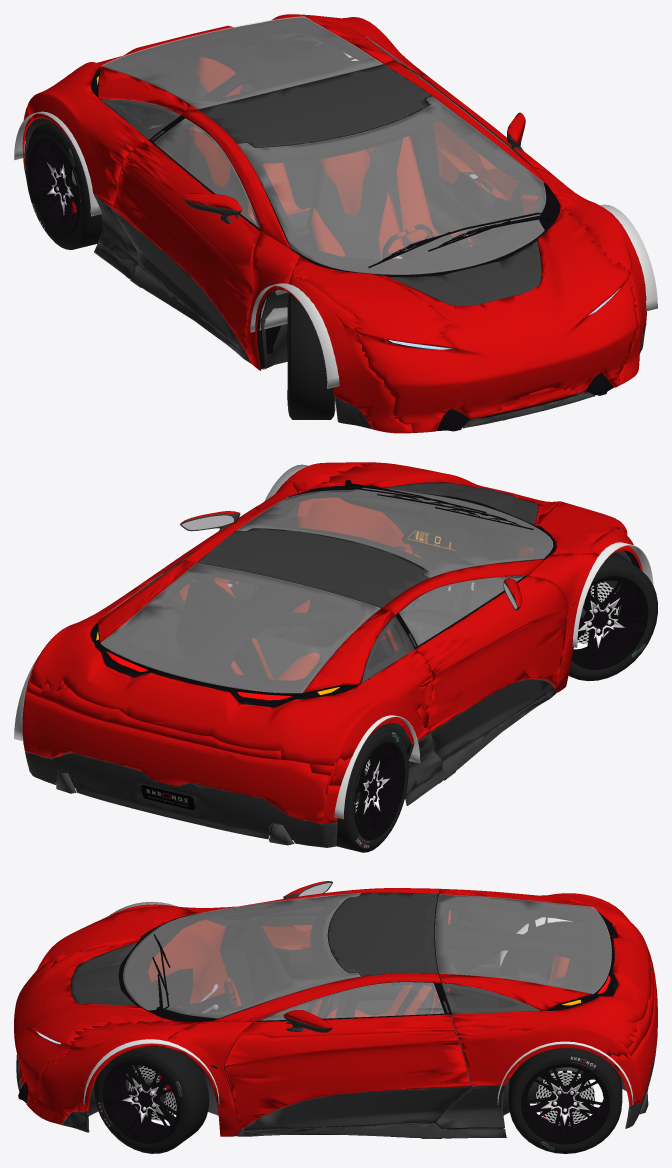
Rendered from car.glb.
The picture shows the model from 3 angles, top to bottom: view 1: azimuth 30°, elevation 25°; view 2: azimuth 150°, elevation 25°; view 3: azimuth 270°, elevation 25°; orthographic projection. The views are drawn at different scales.
Parts seen in each view (by area): view 1: BodyHood, BodyWindshield, BodyRearwindow, BodyDoorRColor1, BodyRearPanelsColor1, BodyRoofPanel, BodyWindshieldGasket, InteriorSeatsColor1, InteriorSeatsColor2, BodyPillars, InteriorPillar, InteriorRearHatch (+25 smaller); view 2: BodyRearPanelsColor1, BodyRearwindow, BodyRearBumper_BodyRearPanelsColor1, BodyWindshield, BodyDoorRColor1, BodyRoofPanel, BodyRearBumper_BodyPanelsColor2, BodyHood, InteriorRearHatch, InteriorPillar, BodyPillars, InteriorDashMid (+26 smaller); view 3: BodyWindshield, BodyDoorLColor1, BodyHood, BodyRearPanelsColor1, BodyRearwindow, BodyRoofPanel, BodyPillars, BodyWindshieldGasket, BodyDoorLColor2, BodyPanelsColor2, concept-wheel-3, InteriorRearHatch (+29 smaller).
Part boxes in pixels (x1,y1,x2,y2): BodyHood: (286,194,646,433); BodyWindshield: (238,96,545,274); BodyRearwindow: (101,16,382,109); BodyDoorRColor1: (111,140,260,355); BodyRearPanelsColor1: (26,14,429,206); BodyRoofPanel: (198,64,431,147); BodyWindshieldGasket: (238,97,560,276); InteriorSeatsColor1: (189,57,473,259); InteriorSeatsColor2: (185,77,470,259); BodyPillars: (181,60,594,370); InteriorPillar: (163,37,433,164); InteriorRearHatch: (100,17,383,116); BodyRearPanelsColor1: (26,560,432,765); BodyRearwindow: (101,563,380,692); BodyRearBumper_BodyRearPanelsColor1: (22,685,351,823); BodyWindshield: (236,488,552,577); BodyDoorRColor1: (415,575,567,732); BodyRoofPanel: (197,528,428,608); BodyRearBumper_BodyPanelsColor2: (24,749,337,847); BodyHood: (287,462,642,570); InteriorRearHatch: (101,564,392,697); InteriorPillar: (182,564,423,672); BodyPillars: (182,480,597,692); InteriorDashMid: (338,493,534,612); BodyWindshield: (123,893,360,1018); BodyDoorLColor1: (224,1014,471,1130); BodyHood: (14,904,198,1124); BodyRearPanelsColor1: (439,888,654,1086); BodyRearwindow: (435,894,611,994); BodyRoofPanel: (328,892,438,976); BodyPillars: (164,888,440,1136); BodyWindshieldGasket: (118,894,360,1022); BodyDoorLColor2: (242,1086,470,1131); BodyPanelsColor2: (236,965,506,1138); concept-wheel-3: (94,1045,209,1153); InteriorRearHatch: (434,895,611,1010).
Size of the model in its own units: 2.8 by 1.27 by 4.8.
Materials: 24 (6 with a texture image).
